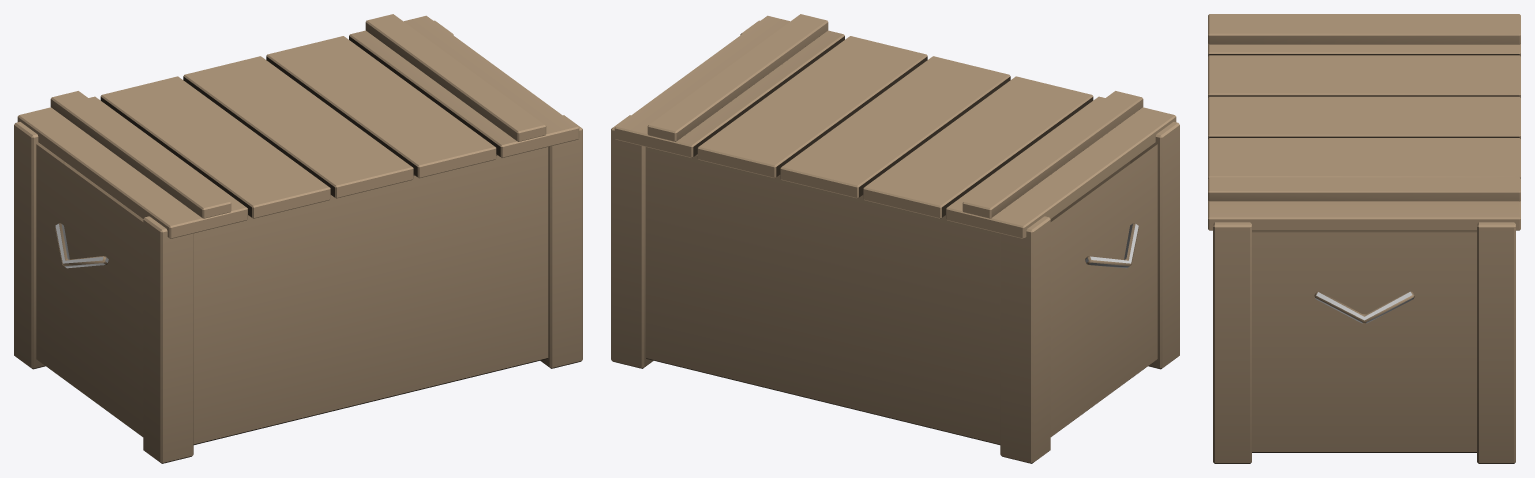
Rendered from arcon.glb.
3 views of the same model, side by side, from view 1: azimuth 30°, elevation 25°; view 2: azimuth 150°, elevation 25°; view 3: azimuth 270°, elevation 25° (orthographic). The views are drawn at different scales.
Visible parts, largest first — view 1: arcon, arcon_lid; view 2: arcon, arcon_lid; view 3: arcon, arcon_lid.
Boxes of the visible parts, left/top/right/bottom form: arcon: left=14, top=20, right=582, bottom=463; arcon_lid: left=17, top=14, right=579, bottom=238; arcon: left=611, top=20, right=1179, bottom=463; arcon_lid: left=614, top=14, right=1176, bottom=238; arcon: left=1213, top=222, right=1515, bottom=463; arcon_lid: left=1208, top=14, right=1520, bottom=230.
Size of the model in its own units: 1.14 by 0.5725 by 0.64.
